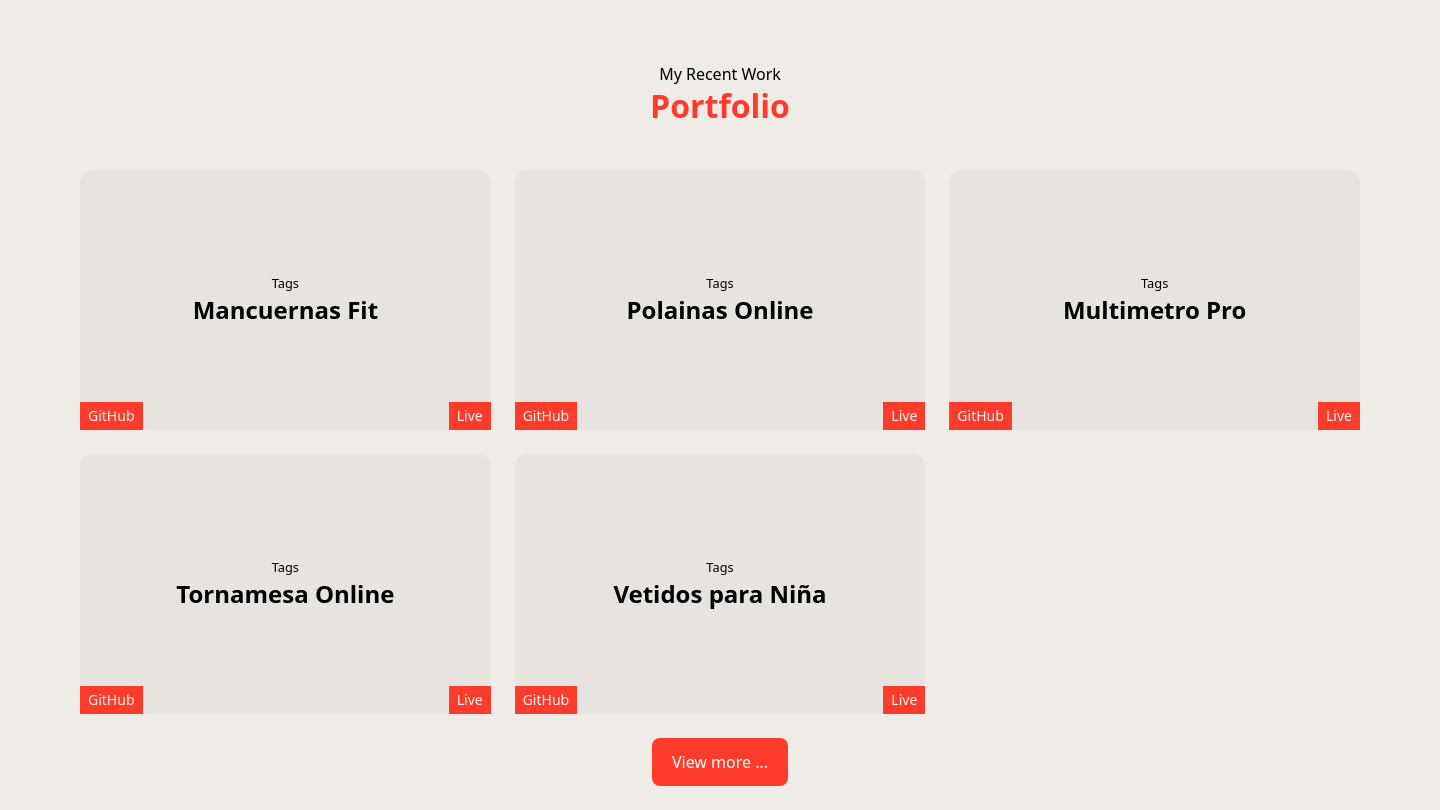
Test: Portfolio Component Tests › Content section › should shows additional project cards when user clicked the button
(page scrolled)
Click the button "View more ..." at (720, 762), box [652,738,788,786]
(page scrolled)
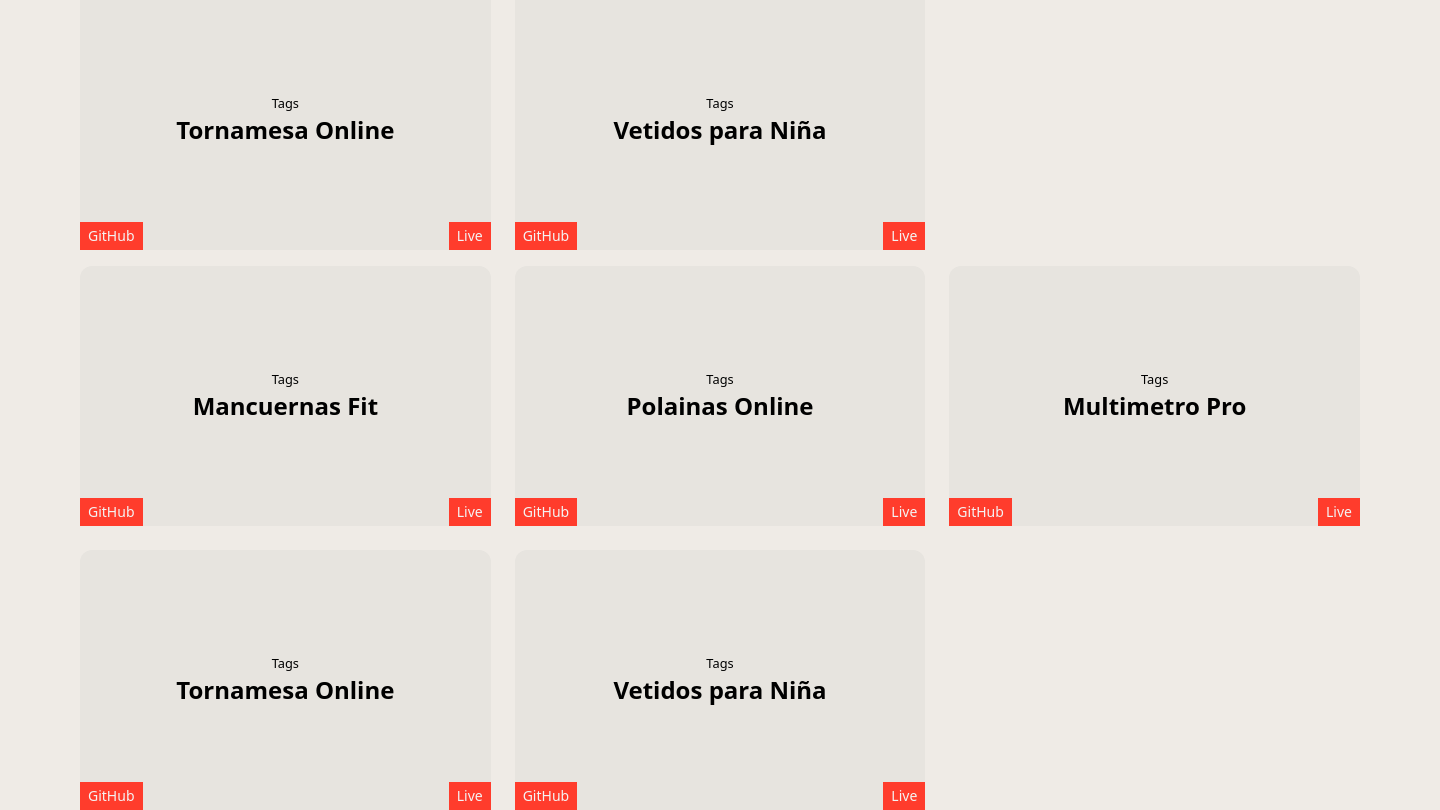
Expected: the element with test id "viewMore-container" is shown, [80,266,1360,809]
